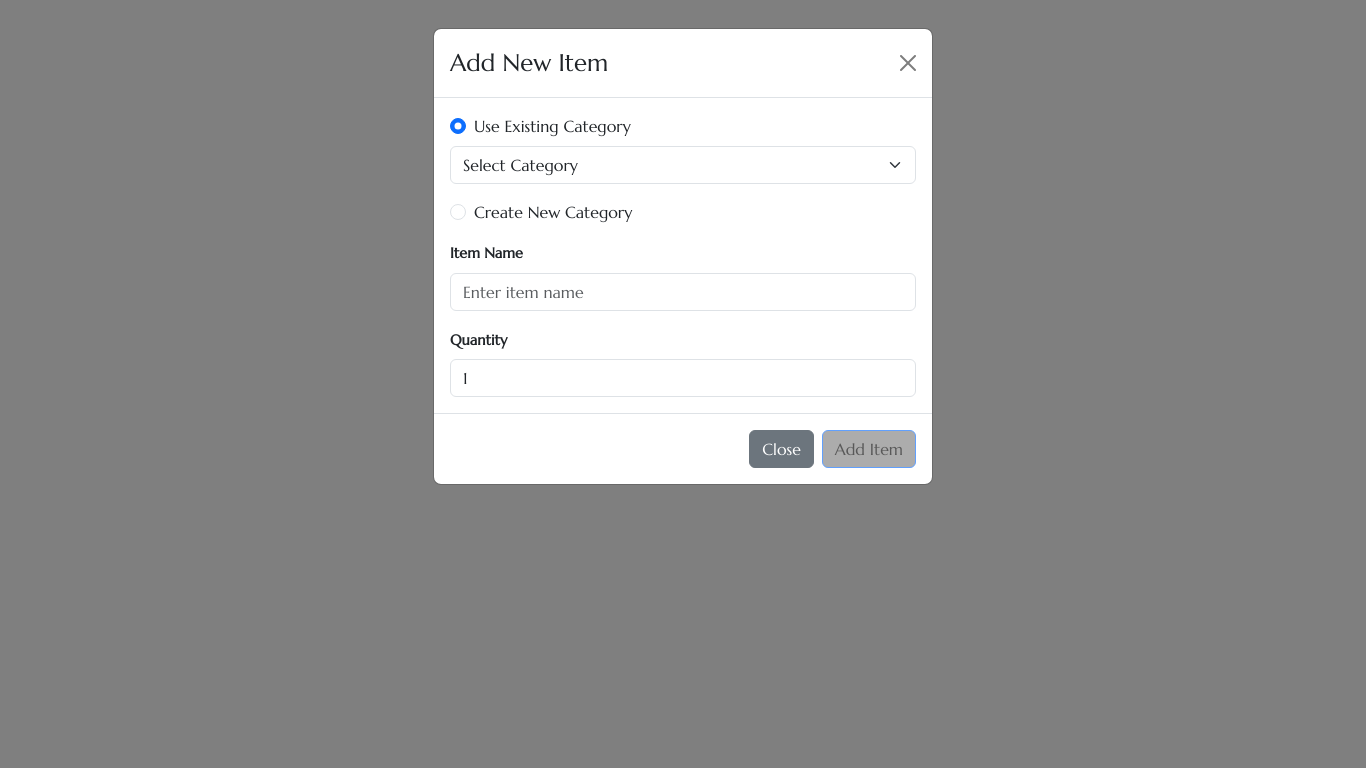
Test: NewItemModal Component › switches between existing and new category modes
// Switch to new category
Click the radio button labelled "Create New Category".
click(458, 212)  # box [450, 204, 466, 220]
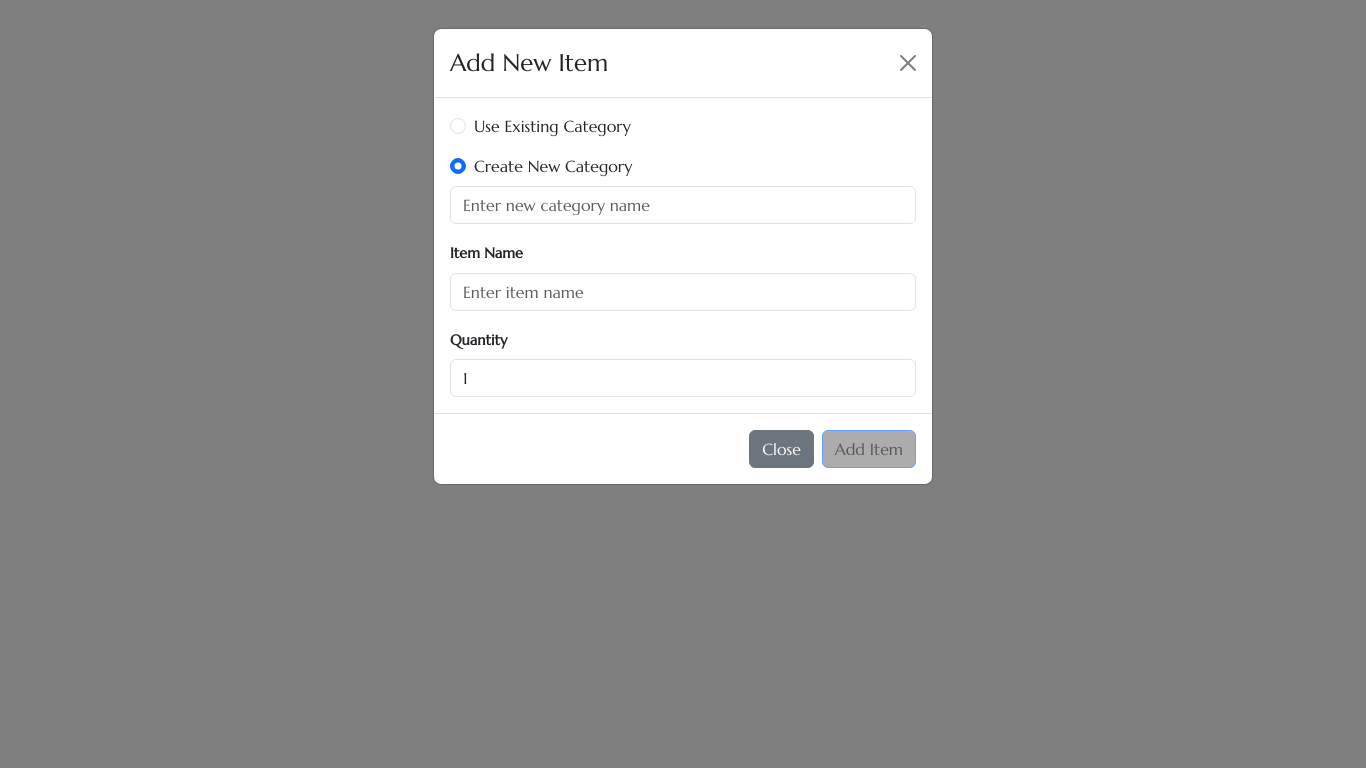
Now the field with placeholder "Enter new category name" is shown, box [450, 186, 916, 224]
// Switch back to existing category
Click the radio button labelled "Use Existing Category".
click(458, 126)  # box [450, 118, 466, 134]
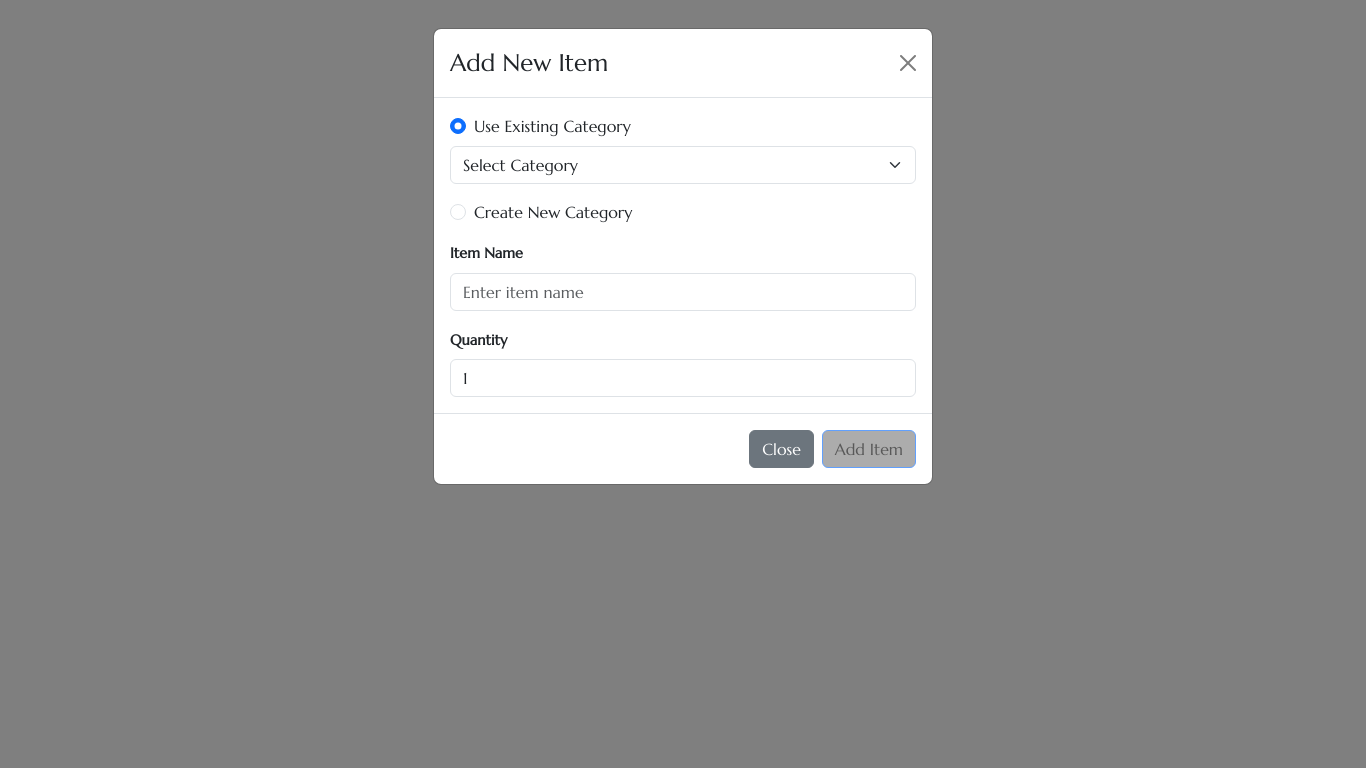
Now the dropdown is shown, box [450, 146, 916, 184]
